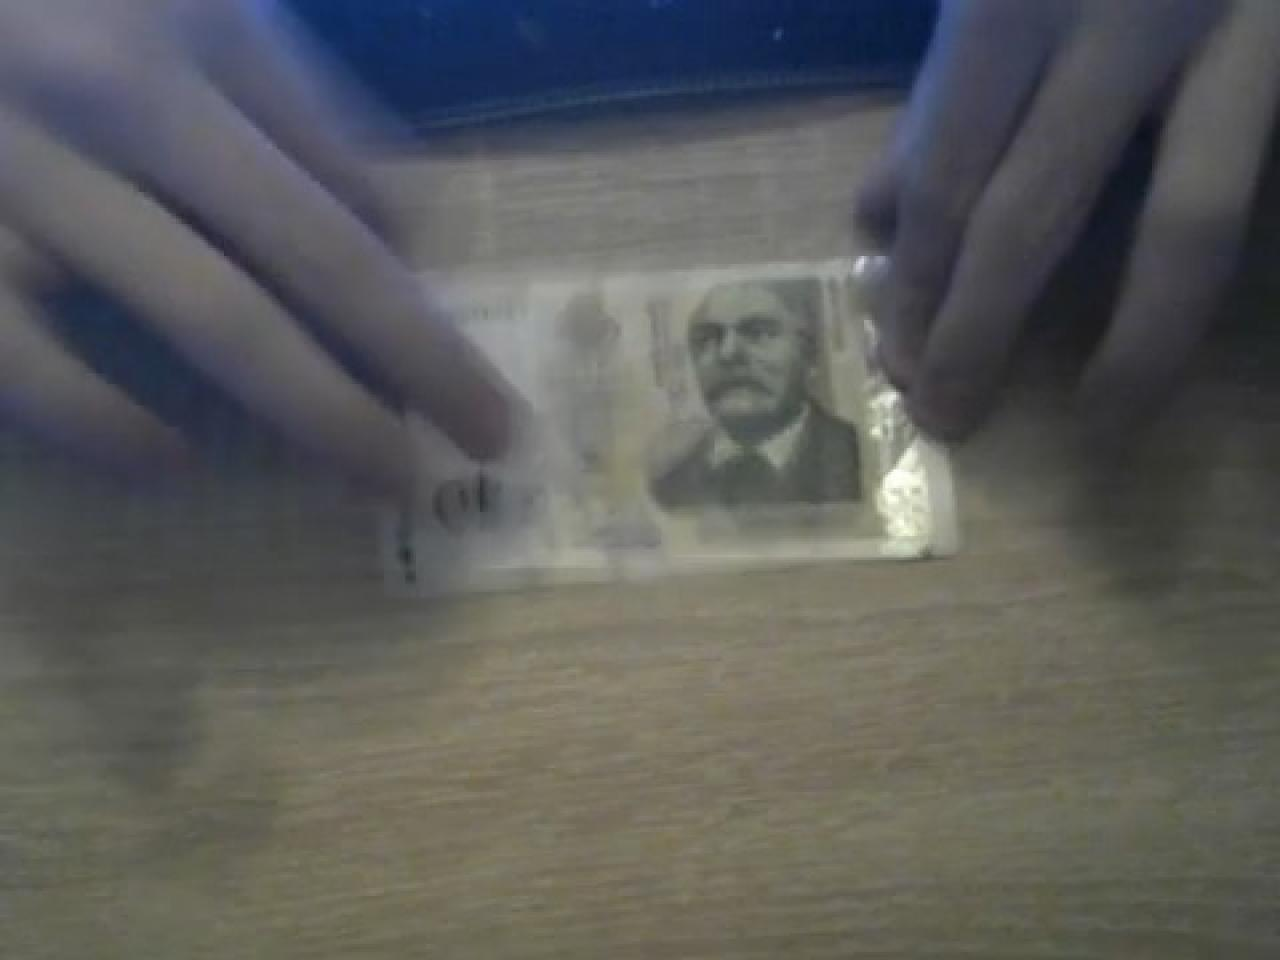10leva: (640, 282, 818, 533)
